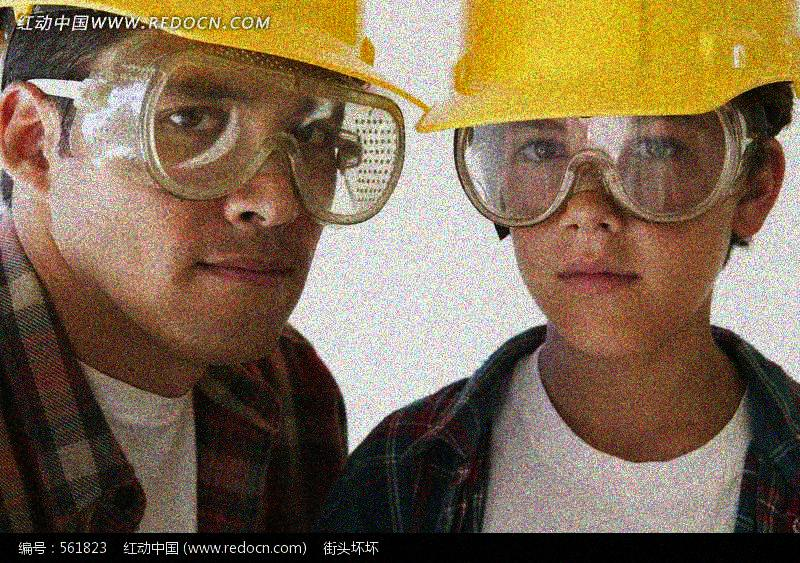helmet: (1, 6, 396, 366), (418, 2, 798, 352), (408, 367, 412, 370)
